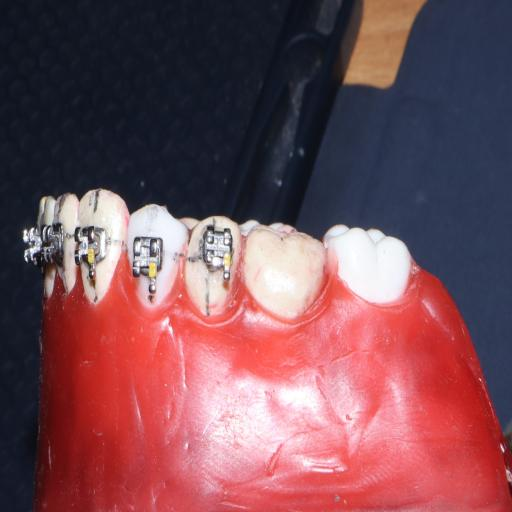incorrect_brace: (201, 230, 234, 272)
